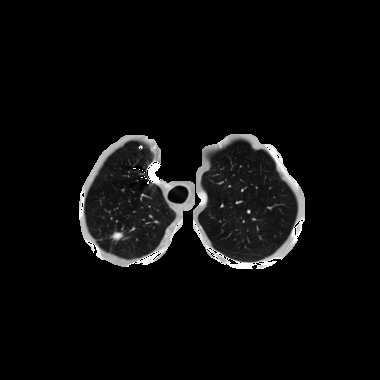PN: (111, 229, 123, 241)
